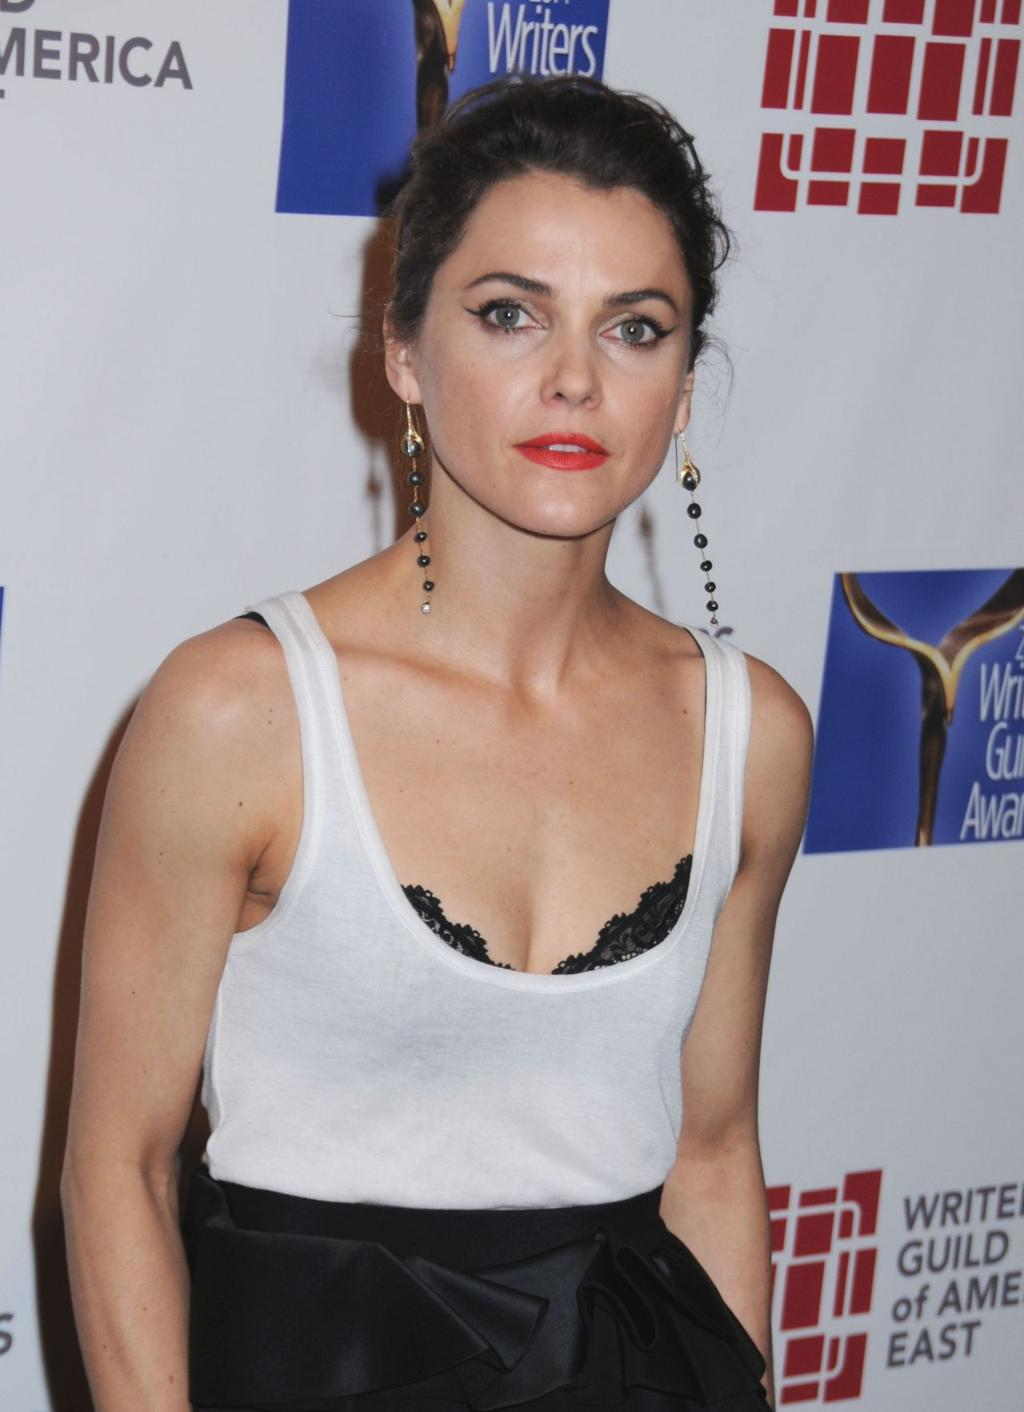face: (426, 172, 696, 536)
